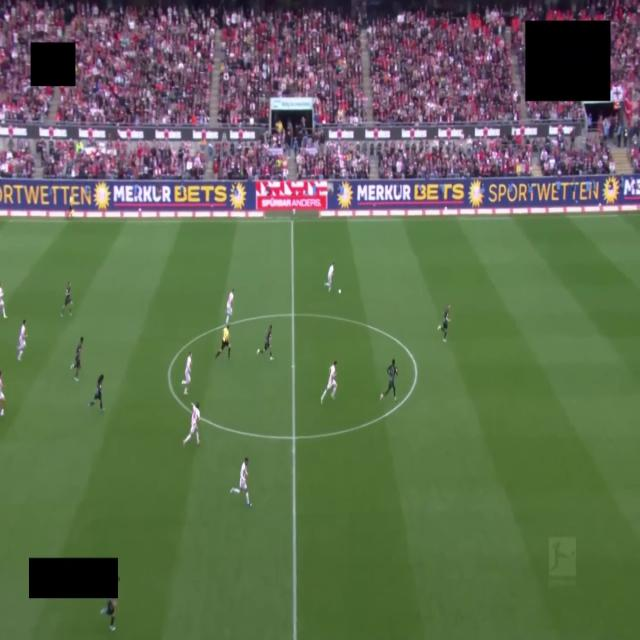ball: (338, 289, 341, 294)
player: (230, 457, 251, 507), (183, 403, 200, 445), (380, 360, 397, 400), (321, 361, 337, 403), (257, 325, 273, 360), (71, 336, 83, 381), (89, 374, 103, 412), (101, 599, 117, 631), (438, 304, 450, 342), (17, 320, 27, 360), (61, 281, 72, 317), (182, 352, 191, 395), (225, 289, 235, 325), (325, 263, 334, 291), (0, 284, 7, 319), (0, 371, 4, 417)
referee: (216, 326, 230, 357)
